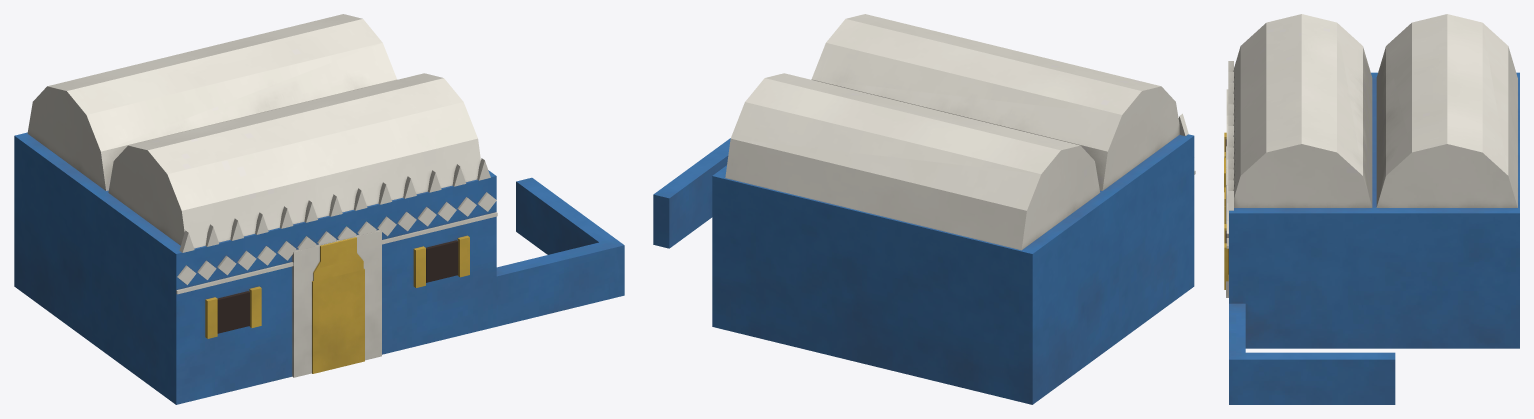
File: hus_nubisk_1_tex.glb
The picture shows the model from 3 angles, left to right: view 1: azimuth 30°, elevation 25°; view 2: azimuth 150°, elevation 25°; view 3: azimuth 270°, elevation 25°; orthographic projection. The views are drawn at different scales.
Visible parts, largest first — view 1: hus_nubisk_1; view 2: hus_nubisk_1; view 3: hus_nubisk_1.
Part boxes in pixels (x1=…): hus_nubisk_1: x1=14, y1=14, x2=624, y2=404; hus_nubisk_1: x1=653, y1=14, x2=1195, y2=404; hus_nubisk_1: x1=1224, y1=14, x2=1519, y2=404.
Bounding box in the file's own units: 11.2 × 5.3 × 7.12.
Materials: 4 (3 with a texture image).
